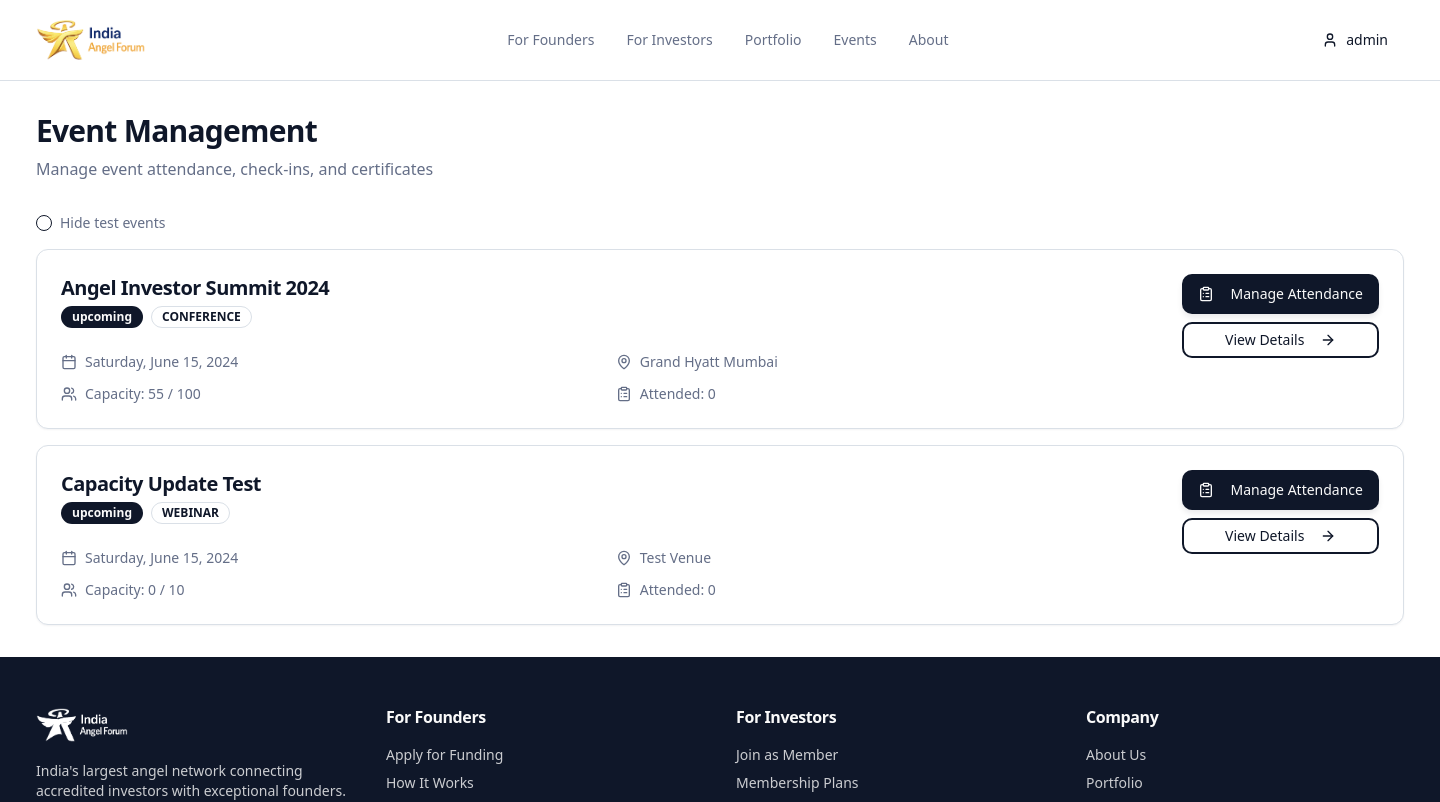
it: N3: Hide Test Events Filter › hides events with "test" in the title when checkbox is checked
Expected: the heading "Capacity Update Test" is shown, [61,470,261,497]
Click the checkbox named "hide test events" at point(44, 223), box [36,215,52,231]
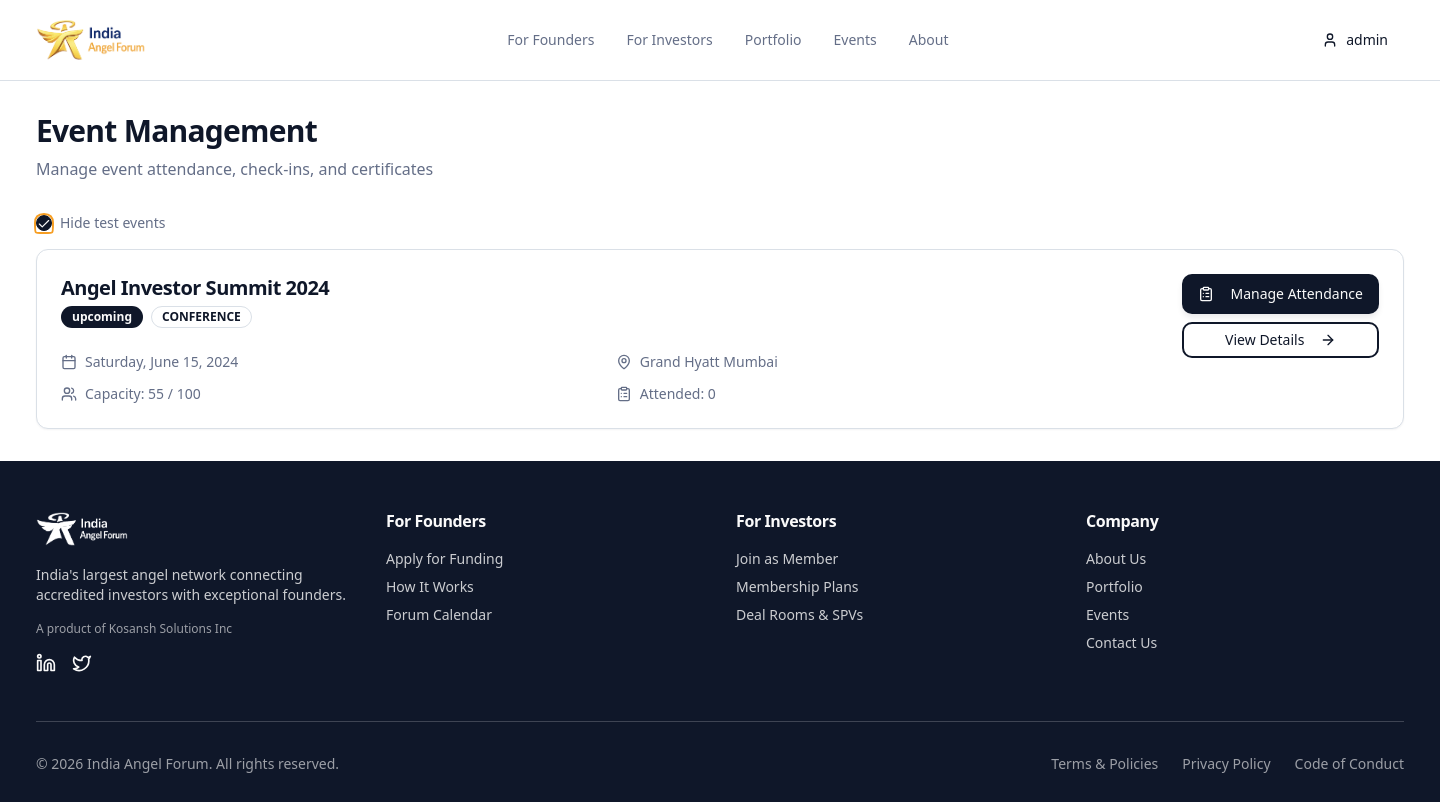
Expected: the heading "Angel Investor Summit 2024" is shown, [61,274,329,301]
Expected: the heading "Capacity Update Test" is gone
